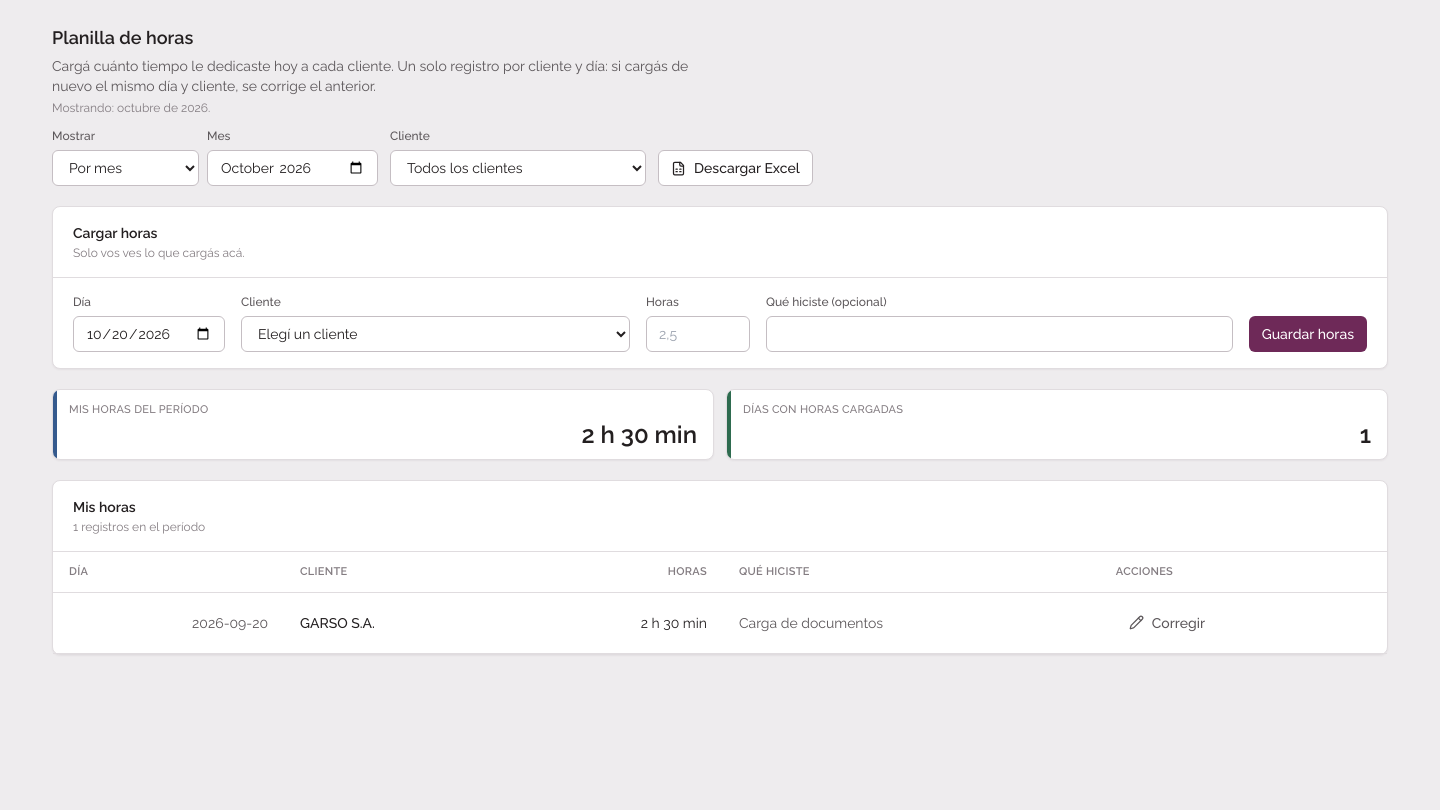
Test: planilla de horas › un error del servidor se muestra tal cual y no borra lo que la persona ya escribió
Expected: the heading "Planilla de horas" is shown, 52,27 -> 193,48
Select "GARSO S.A." in the dropdown labelled "Cliente" below "Qué hiciste (opcional)" at (435,334), box 241,316 -> 630,352
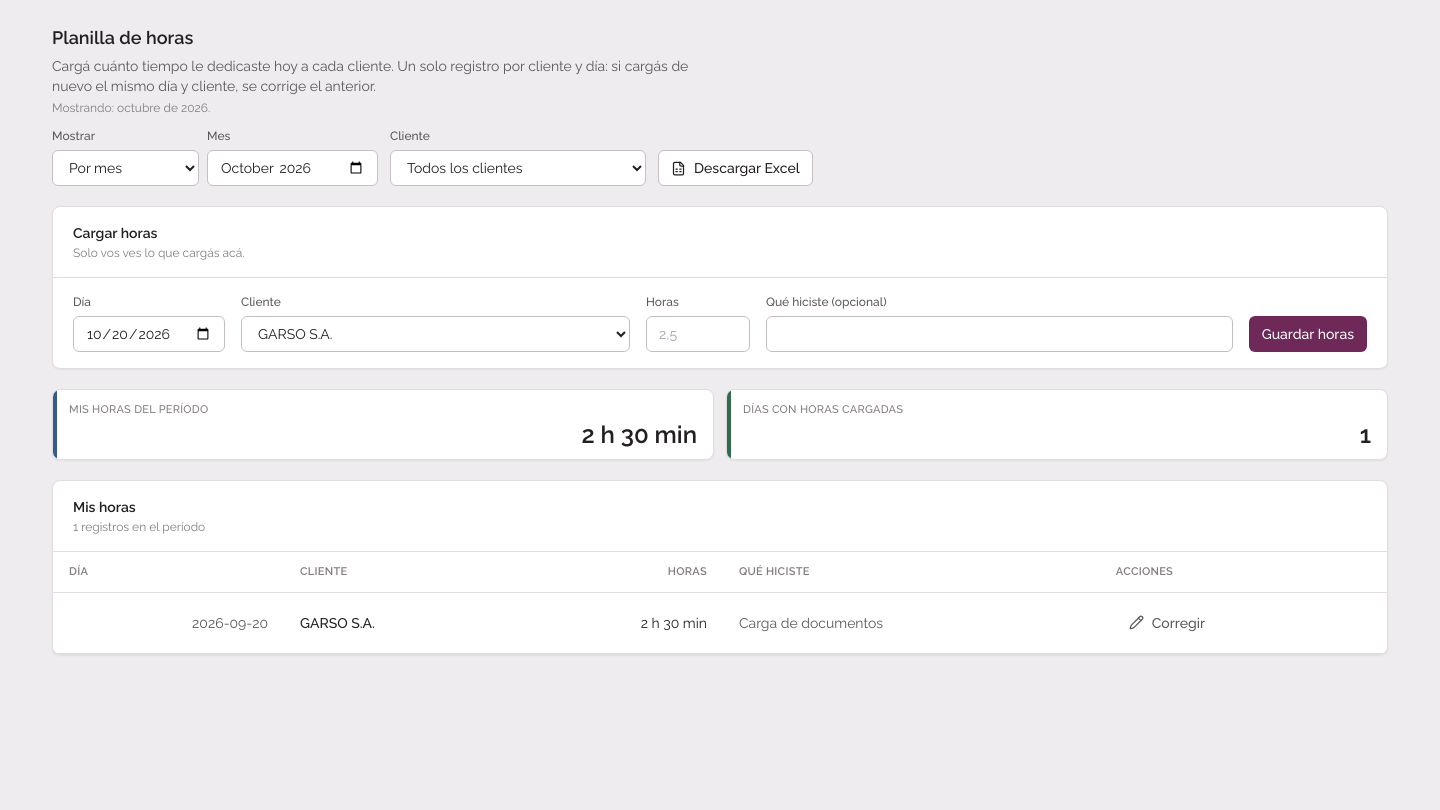
Type "3" into the field labelled "Horas" at (698,334), box 646,316 -> 750,352
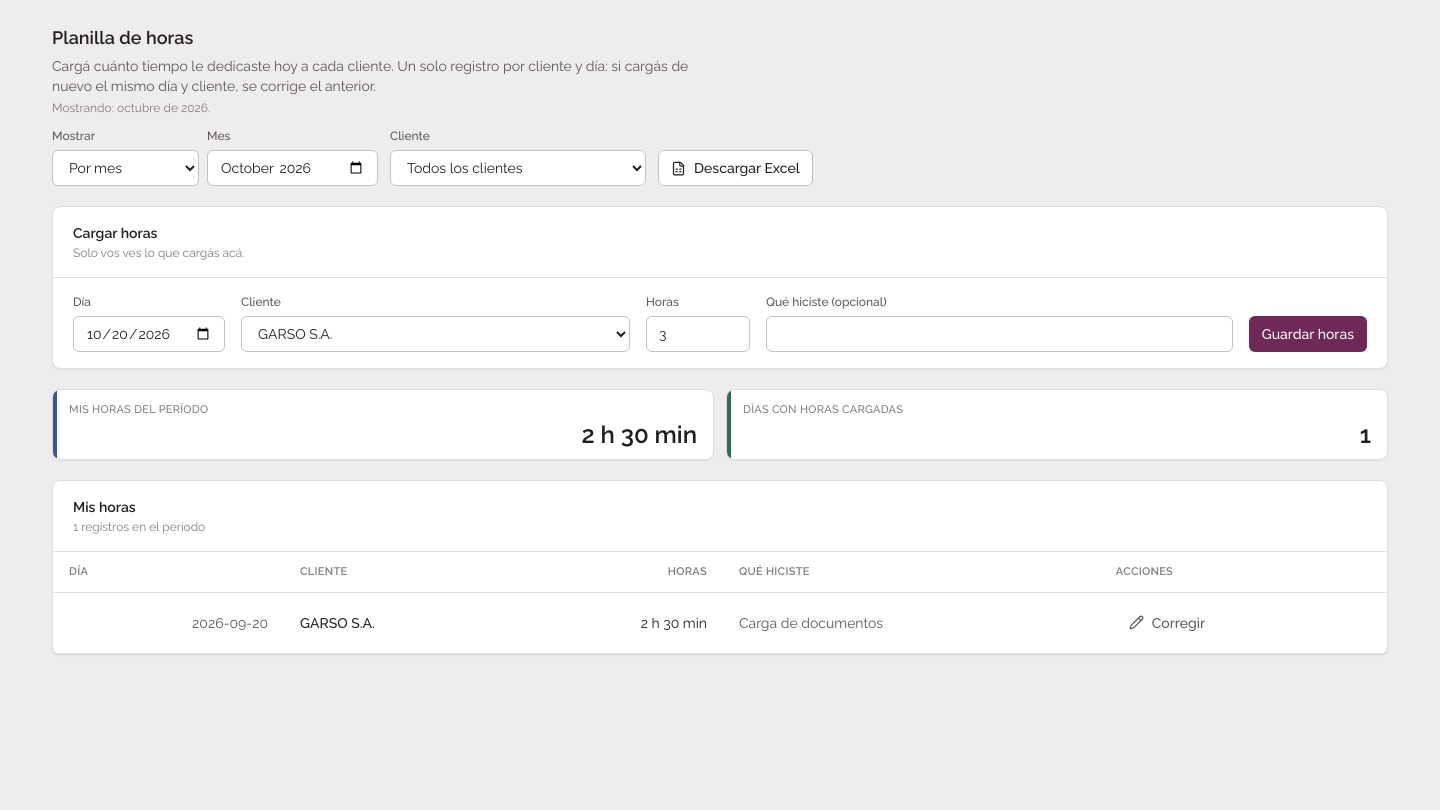
Click the button "Guardar horas" at (1308,334), box 1249,316 -> 1367,352
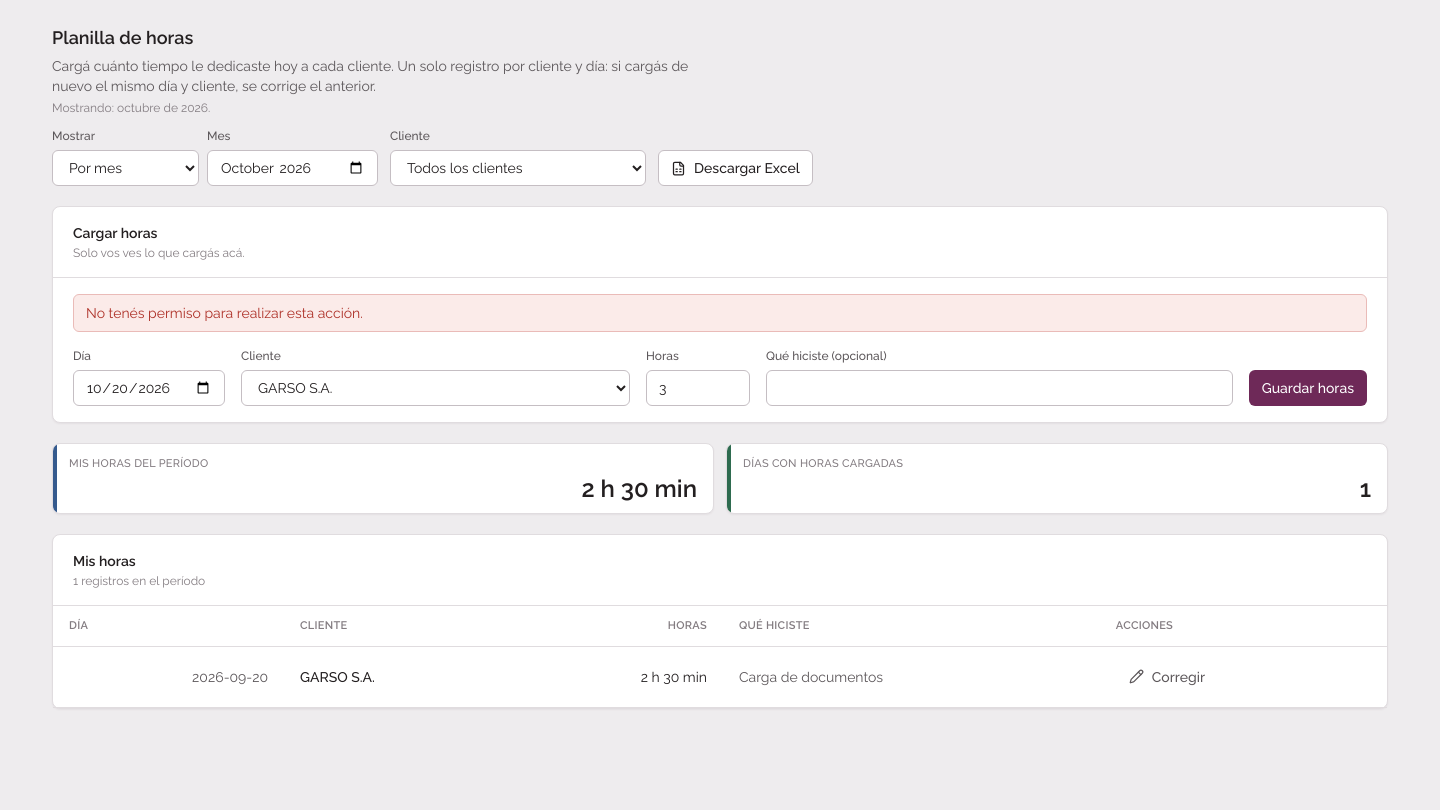
Now the text "No tenés permiso para realizar esta acción." is shown, box 73,294 -> 1367,332
